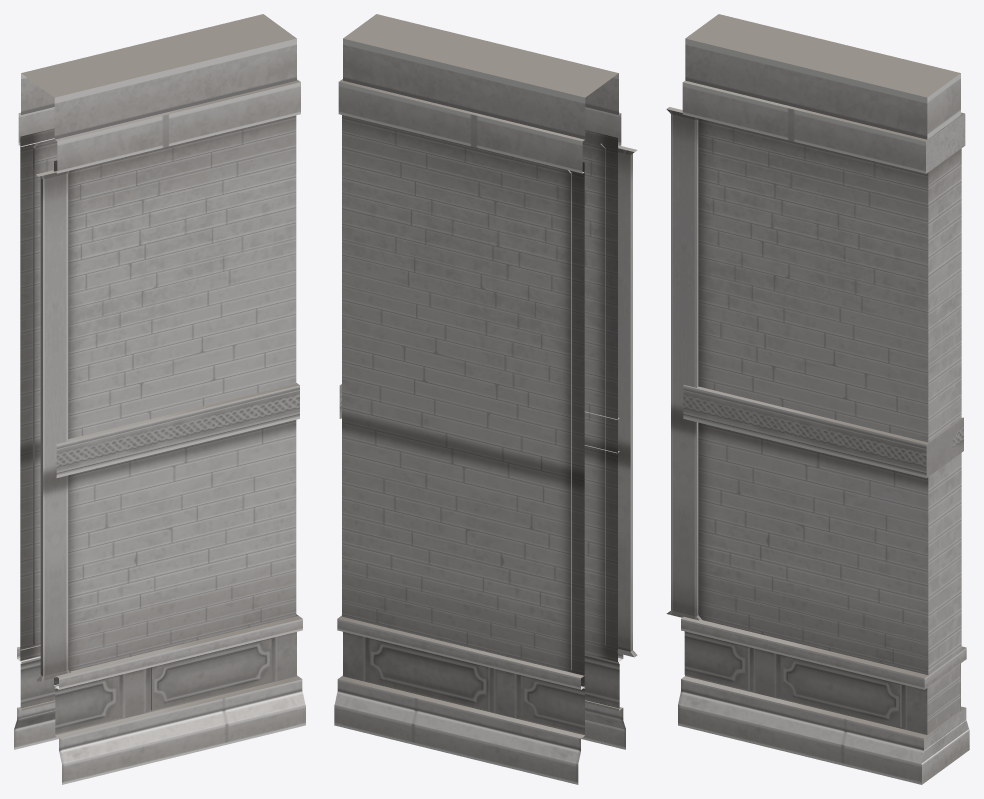
File: Stage01_One_Wall02.fbx
3 views of the same model, side by side, from view 1: azimuth 30°, elevation 25°; view 2: azimuth 150°, elevation 25°; view 3: azimuth 330°, elevation 25° (orthographic).
Parts seen in each view (by area): view 1: wall_2; view 2: wall_2; view 3: wall_2.
Boxes of the visible parts, bbox=[...] form: wall_2: bbox=[14, 14, 305, 784]; wall_2: bbox=[334, 14, 637, 784]; wall_2: bbox=[666, 14, 969, 784].
Bounding box in the file's own units: 527 × 1314 × 167.
